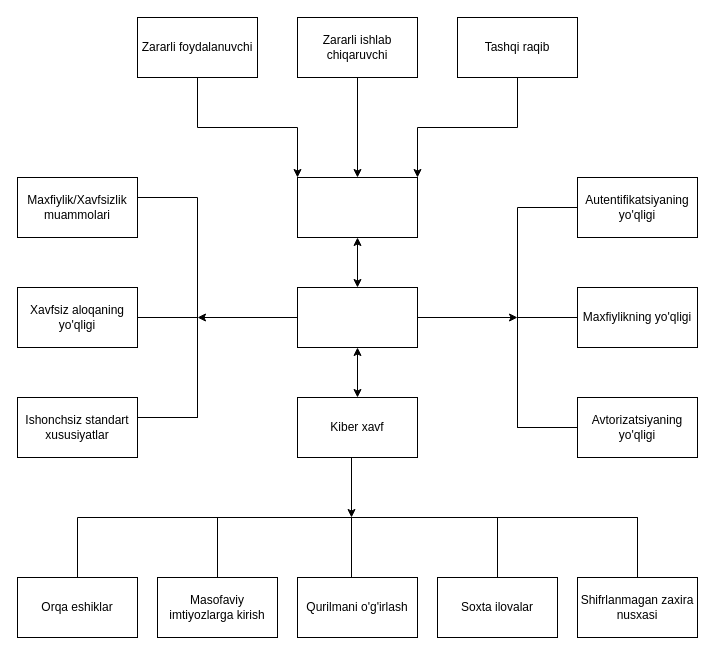
The diagram is 715 pixels wide and 655 high, and some of its shapes have lost their labels. The box of each missing label's shape, as (x1, y1, x2, y2) in pixels:
Tahdid manbai: (296, 176, 418, 238)
Tahdidlar va zaifliklar muammolari: (296, 286, 418, 348)
